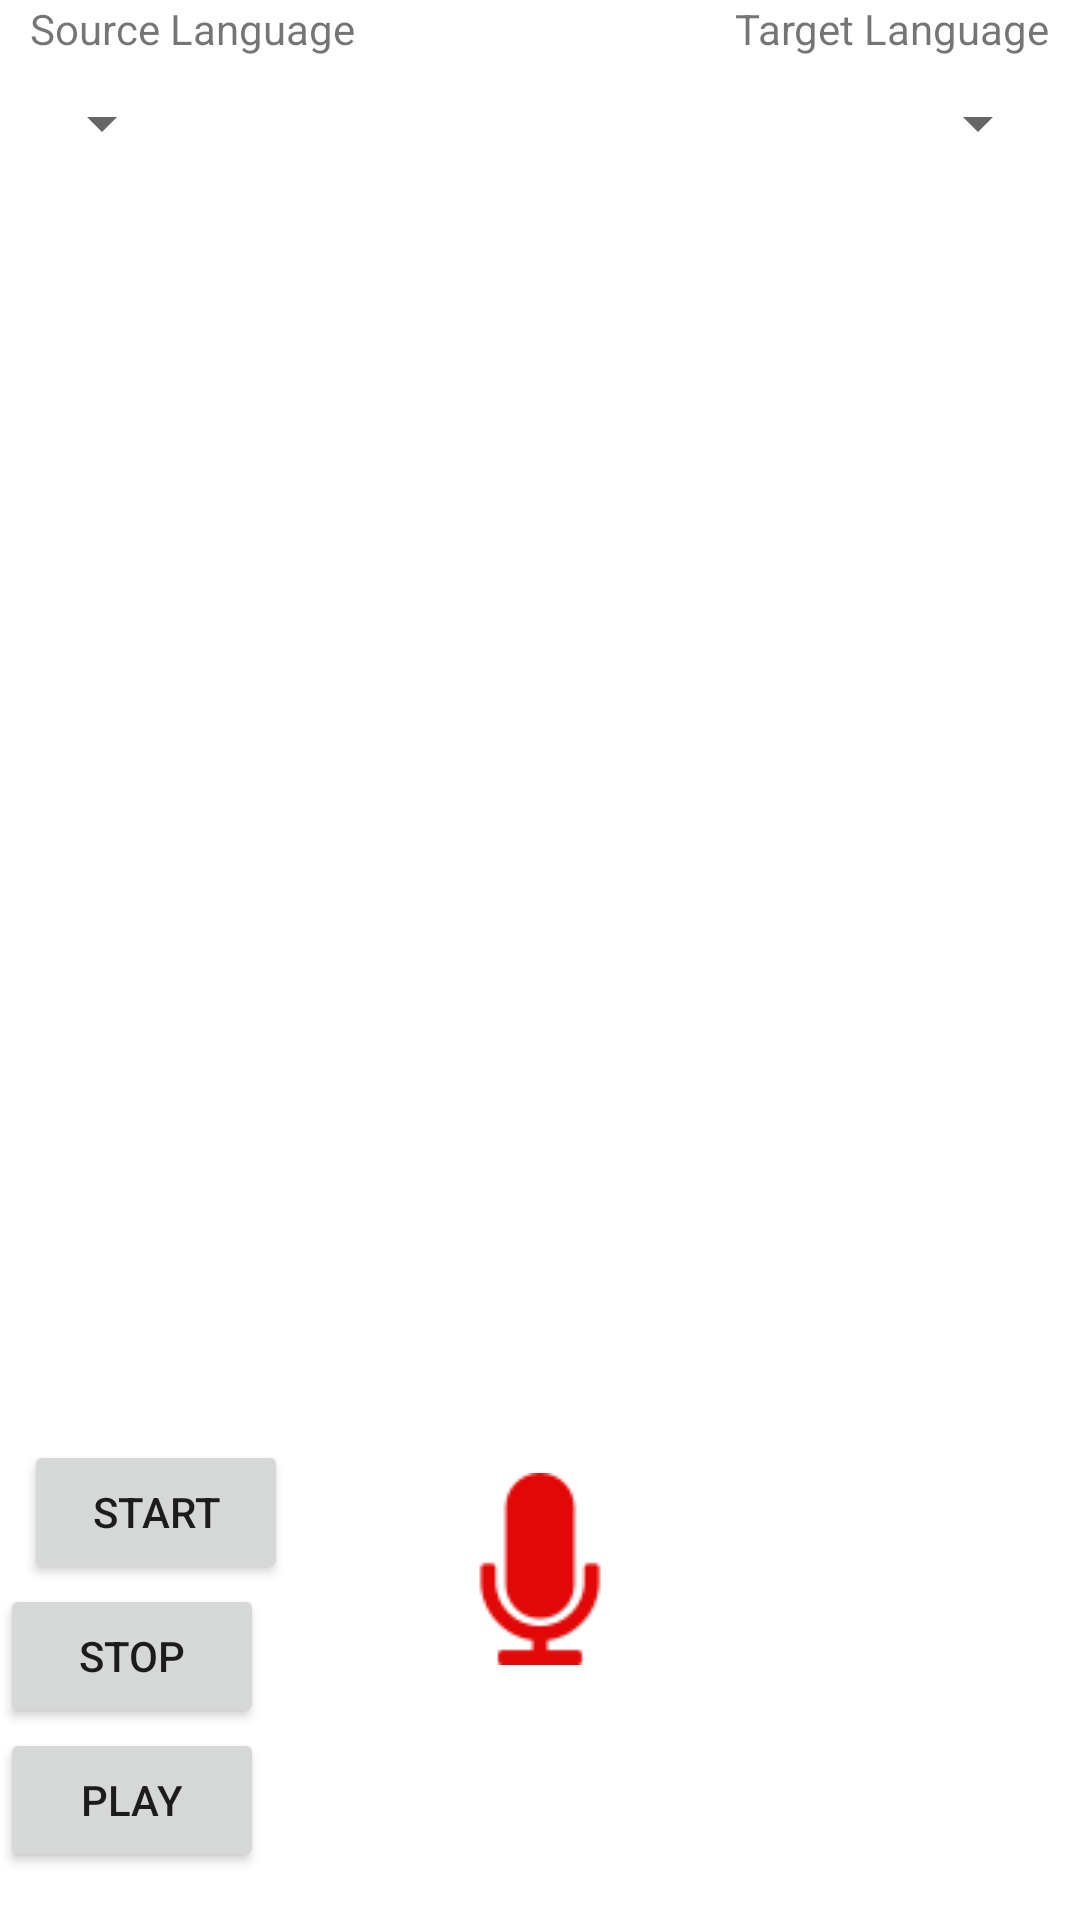

Point at icon controls on the screen. Image size 1080 × 1920, points as (x,y).
mic: (540,1569)
